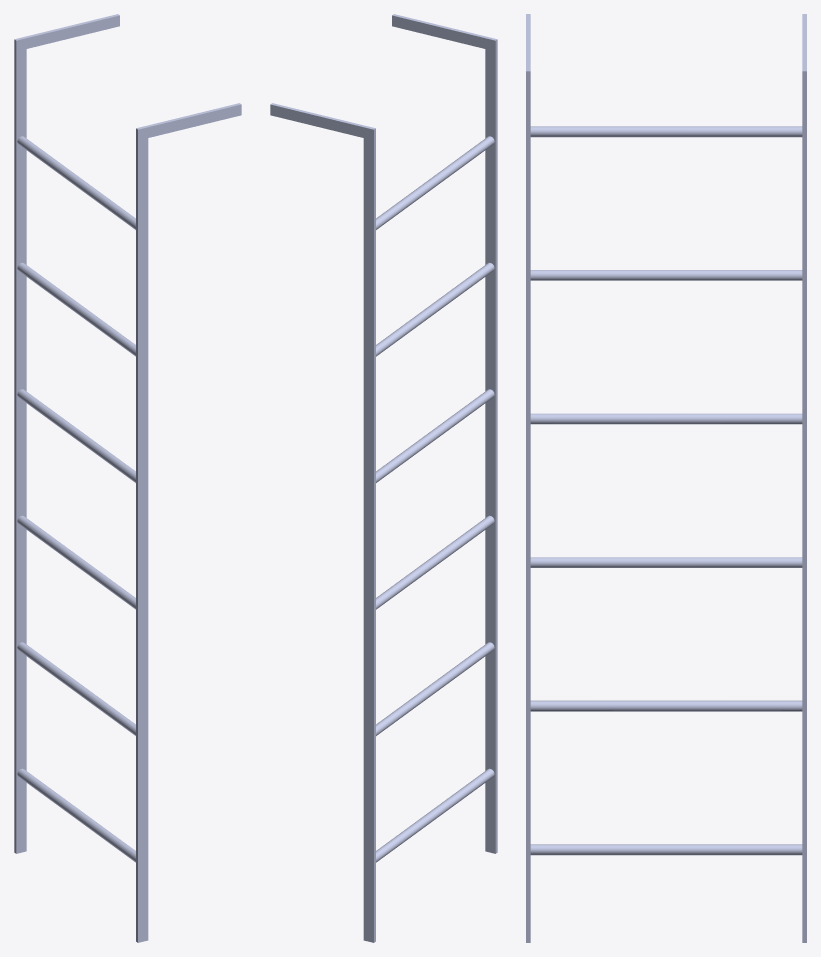
3 views of the same model, side by side, from view 1: azimuth 30°, elevation 25°; view 2: azimuth 150°, elevation 25°; view 3: azimuth 270°, elevation 25° (orthographic). The views are drawn at different scales.
Parts seen in each view (by area): view 1: NAUO33; view 2: NAUO33; view 3: NAUO33.
Part boxes in pixels (left/top/right/bottom): NAUO33: left=14, top=14, right=241, bottom=942; NAUO33: left=270, top=14, right=497, bottom=942; NAUO33: left=526, top=14, right=806, bottom=942.
Bounding box in the file's own units: 0.3 × 2.25 × 0.62.
